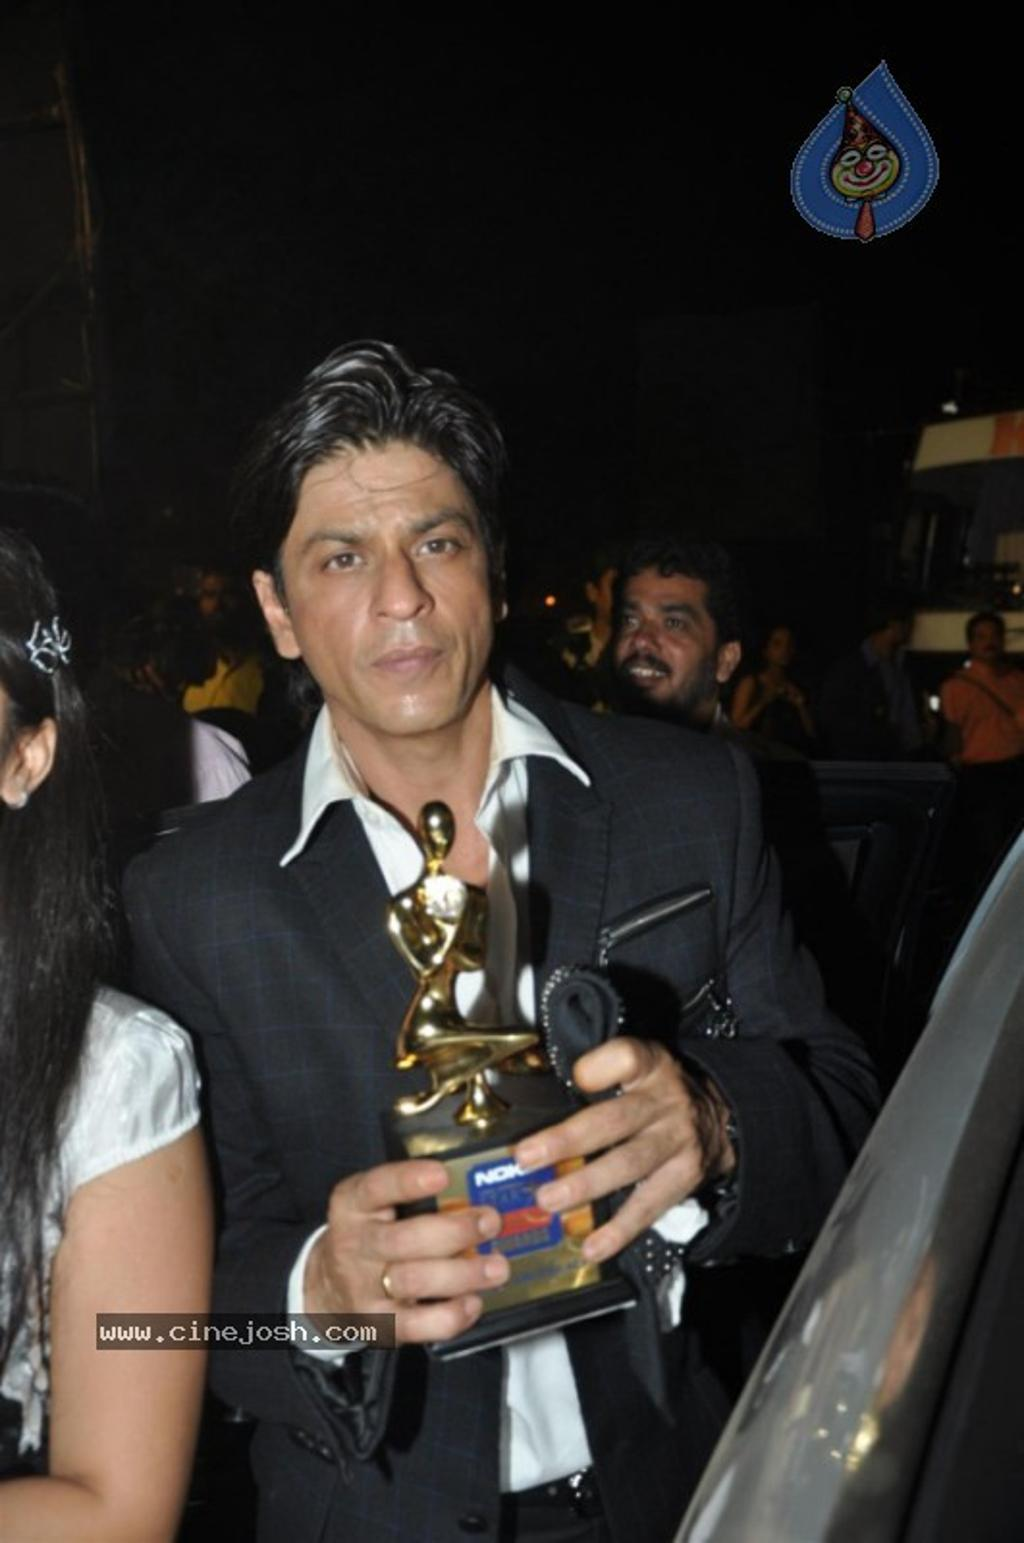face: (286, 440, 494, 732), (608, 572, 713, 705)
